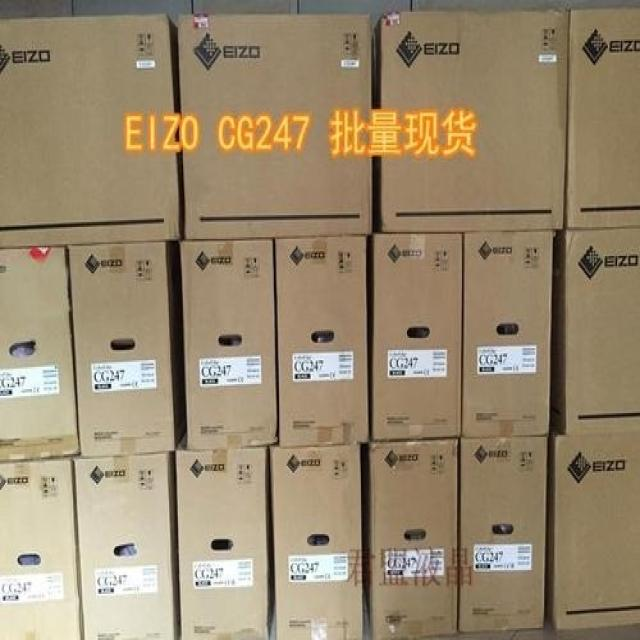box: (177, 15, 372, 241), (372, 10, 570, 232), (0, 14, 186, 247), (68, 241, 187, 456), (174, 427, 274, 640), (180, 239, 278, 447), (73, 451, 180, 640), (275, 234, 369, 445), (371, 232, 463, 442), (461, 230, 553, 437), (545, 433, 640, 631), (269, 444, 364, 640), (550, 227, 640, 433), (369, 439, 460, 640), (458, 433, 547, 633), (0, 244, 81, 461), (564, 3, 640, 229), (0, 456, 82, 640)
